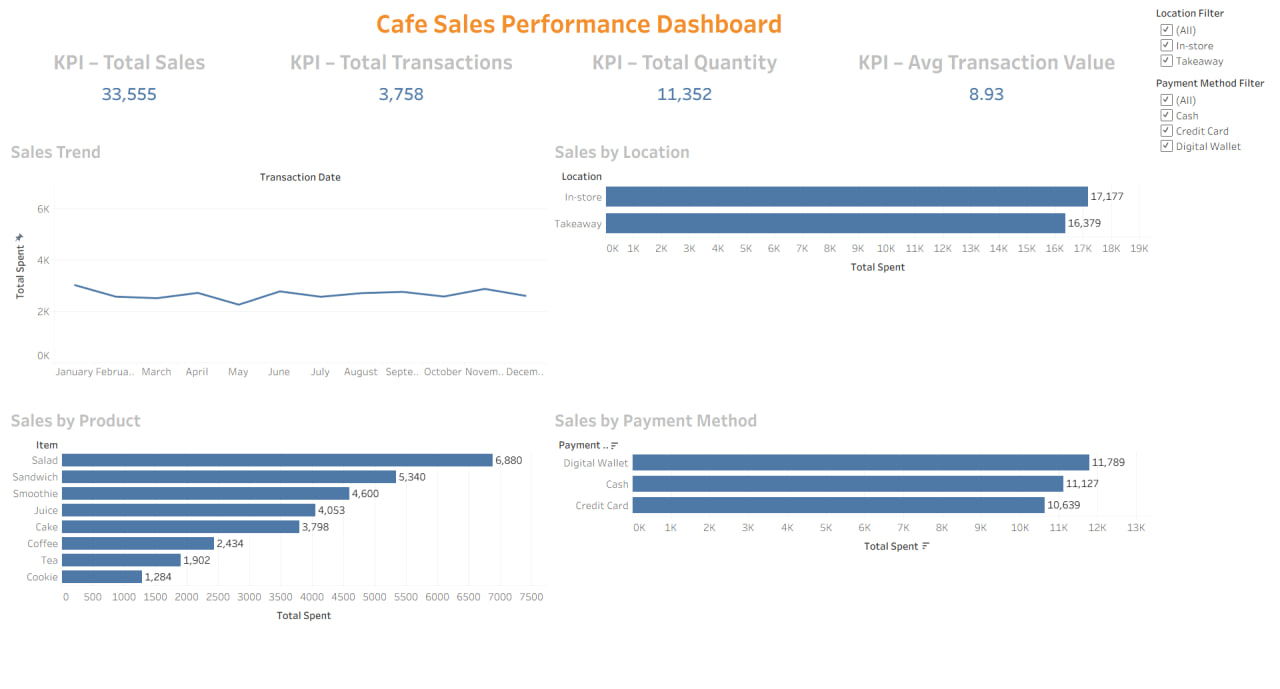

The dashboard page shown, as its layout file describes it:
{"tool":"tableau","page":{"name":"Dashboard 1","canvas":[1000,1000],"units":"permille","ordinal":0},"visuals":[{"type":"title","box":[4.8,9.3,880.5,67.4]},{"type":"filter","title":"Sheet 6","param":"[federated.1dskqjf1y84s2d104faao1twyujn].[Location Set]","box":[885.3,9.3,109.8,122]},{"type":"worksheet","title":"Sheet 8","mark":"Automatic","box":[4.8,76.7,207.6,127.6]},{"type":"worksheet","title":"Sheet 9","mark":"Automatic","box":[212.4,76.7,226.4,127.6]},{"type":"worksheet","title":"Sheet 10","mark":"Automatic","box":[438.8,76.7,207.1,127.6]},{"type":"worksheet","title":"Sheet 11","mark":"Automatic","box":[646,76.7,239.4,127.6]},{"type":"filter","title":"Sheet 5","param":"[federated.1dskqjf1y84s2d104faao1twyujn].[Payment Method Filter]","box":[885.3,131.2,109.8,148.7]},{"type":"worksheet","title":"Sheet 6","mark":"Automatic","rows":["Total_Spent"],"cols":["Transaction_Date"],"box":[4.8,204.2,434,383.4]},{"type":"worksheet","title":"Sheet 4","mark":"Automatic","rows":["Location"],"cols":["Total_Spent"],"box":[438.8,204.2,446.5,383.4]},{"type":"worksheet","title":"Sheet 2","mark":"Automatic","rows":["Item"],"cols":["Total_Spent"],"box":[4.8,587.7,434,403.1]},{"type":"worksheet","title":"Sheet 5","mark":"Automatic","rows":["Payment_Method"],"cols":["Total_Spent"],"box":[438.8,587.7,446.5,403.1]}]}

Visuals, with their boxes on the dashboard's canvas, which has no fixed pixel size, in thousandths of its width and height (x1, y1, x2, y2). These are canvas units, not pixel positions in the 1280x689 screenshot, which may show the page scaled, cropped or inside an application window:
title: box(5, 9, 885, 77)
"Sheet 6" filter: box(885, 9, 995, 131)
"Sheet 8" worksheet: box(5, 77, 212, 204)
"Sheet 9" worksheet: box(212, 77, 439, 204)
"Sheet 10" worksheet: box(439, 77, 646, 204)
"Sheet 11" worksheet: box(646, 77, 885, 204)
"Sheet 5" filter: box(885, 131, 995, 280)
"Sheet 6" worksheet: box(5, 204, 439, 588)
"Sheet 4" worksheet: box(439, 204, 885, 588)
"Sheet 2" worksheet: box(5, 588, 439, 991)
"Sheet 5" worksheet: box(439, 588, 885, 991)
